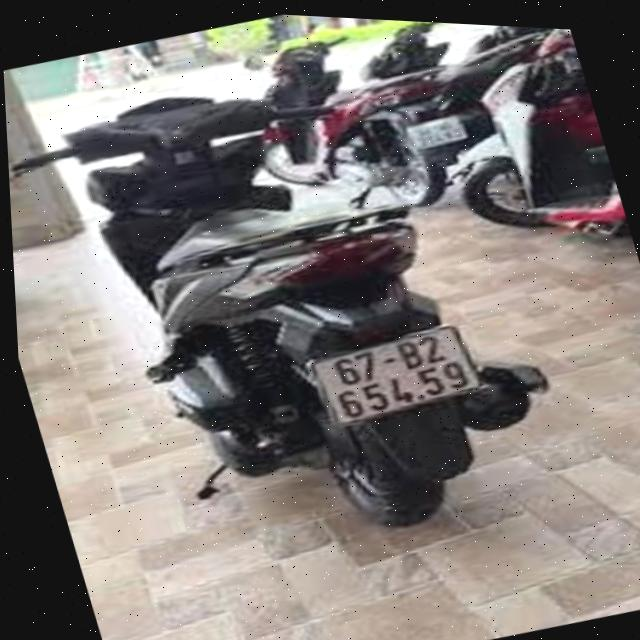motorcycle: (0, 7, 603, 625), (216, 11, 492, 253), (409, 21, 635, 283)
plate: (299, 308, 496, 439), (390, 97, 492, 164)
